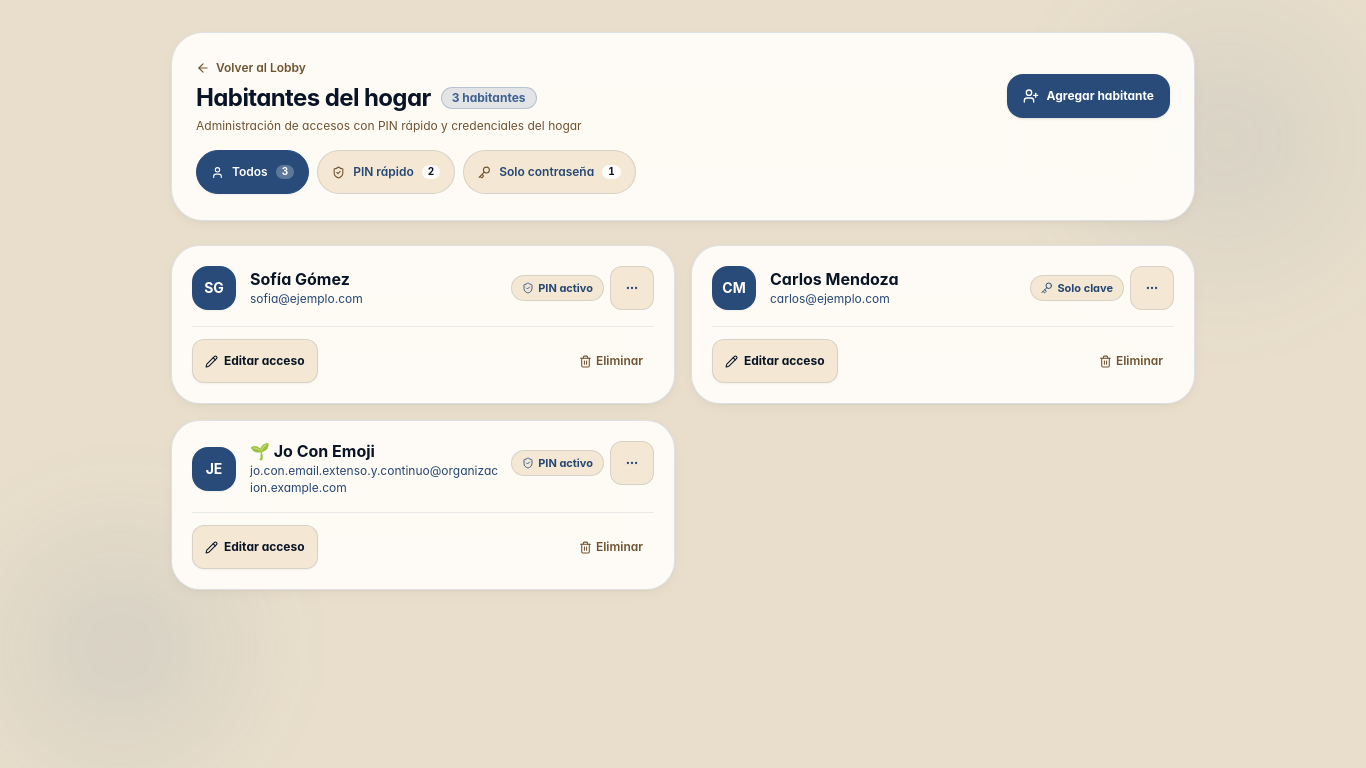
UsuariosView - Apple Design & Break-UI Craft › elevates active card z-index above sibling cards when options menu is open, preventing menu overlap by user below
Open options on first user (Sofía Gómez) who has Carlos Mendoza directly below
Click the button named "Opciones de Sofía Gómez".
click(632, 288)  # box [610,266,654,310]
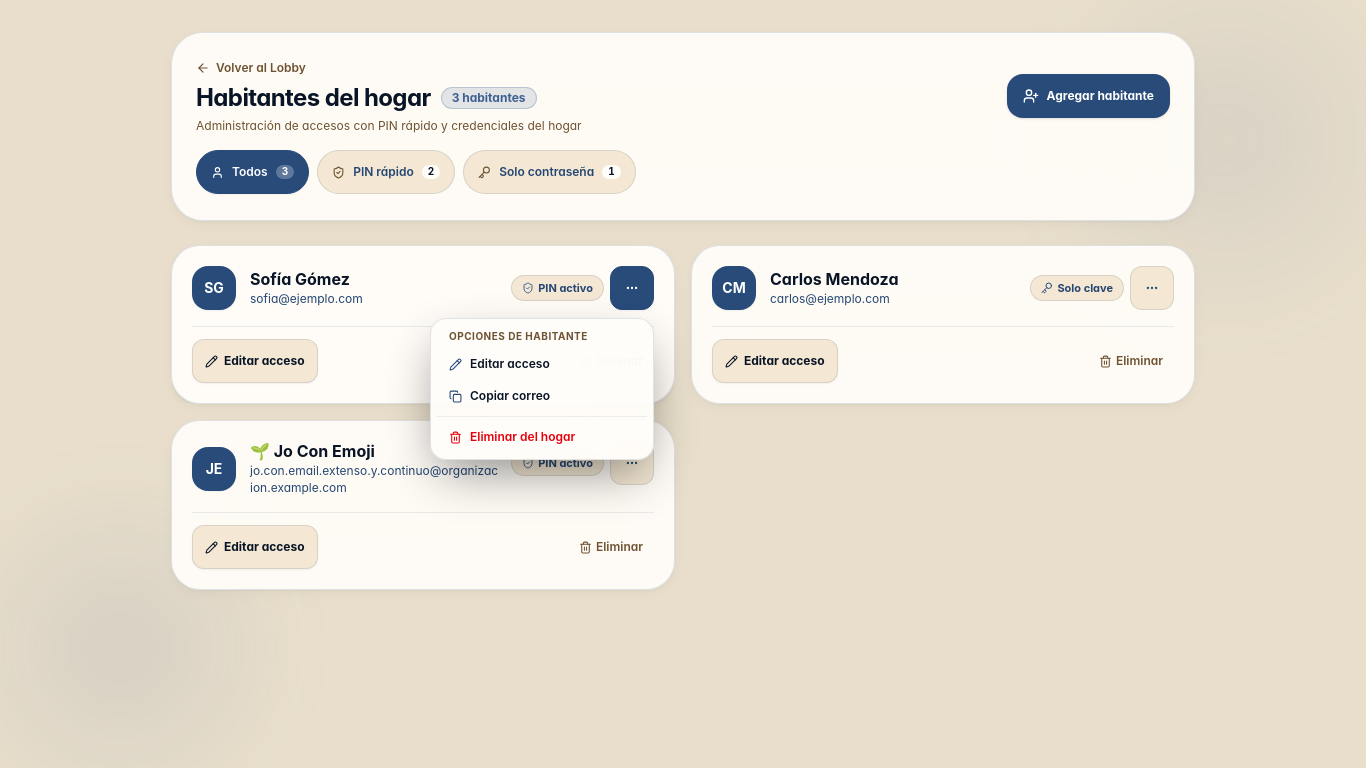
expect the text "Opciones de habitante" is shown: met, box [449,330,588,342]
expect the text "Copiar correo" is shown: met, box [470,388,550,404]
expect the text "Eliminar del hogar" is shown: met, box [470,429,575,445]
